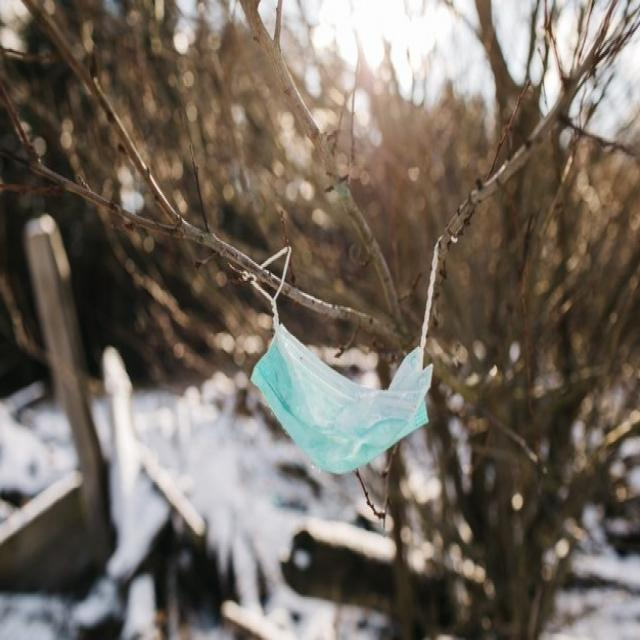face mask: (246, 252, 442, 482)
